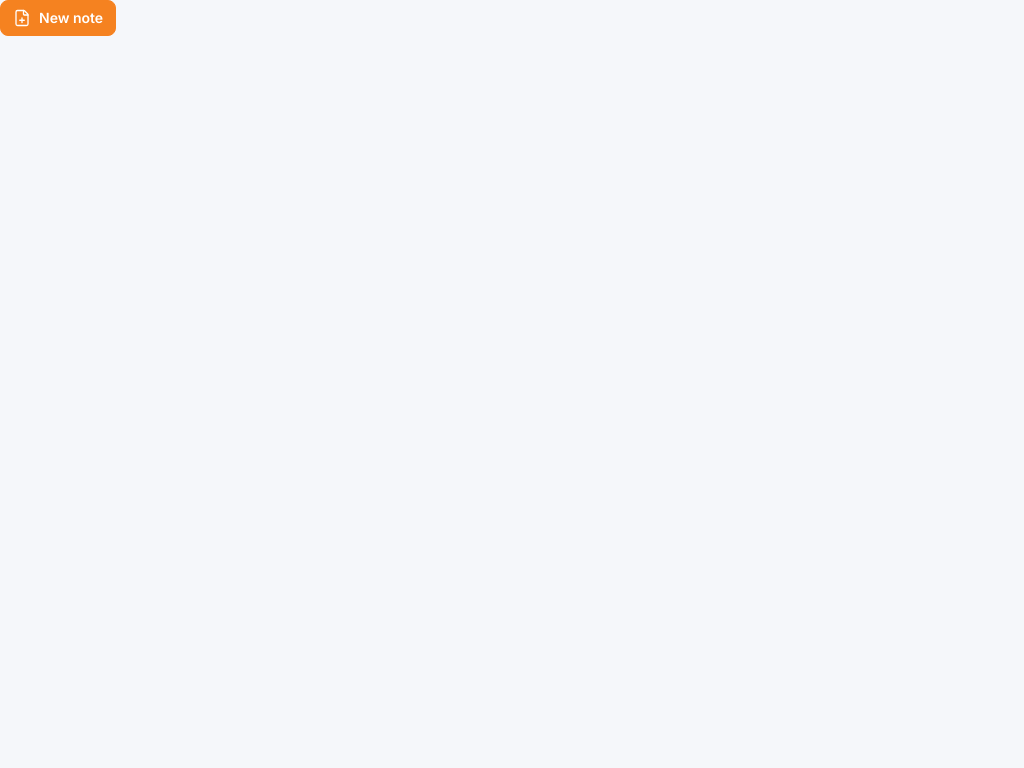
Scenario: AC-2.1 / AC-2.2 — capture › opens on 'n' from anywhere and saves with only a body
Press n
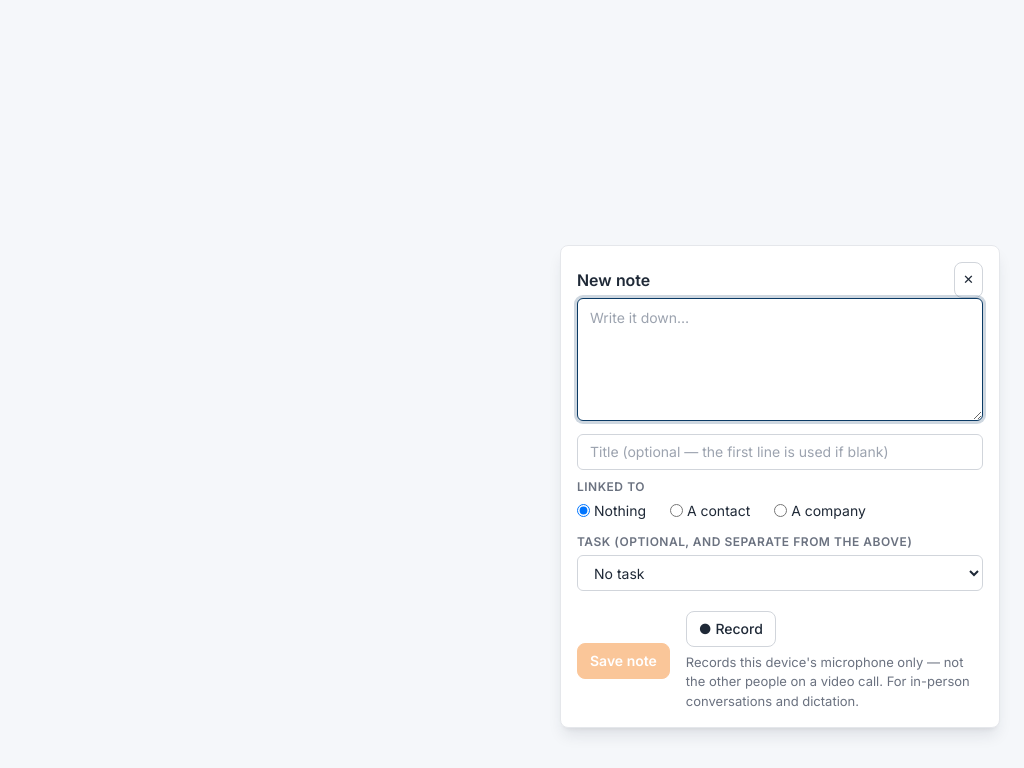
In the text box named "Note": (780, 359) [577,298,983,421], type "Lease renews in March"
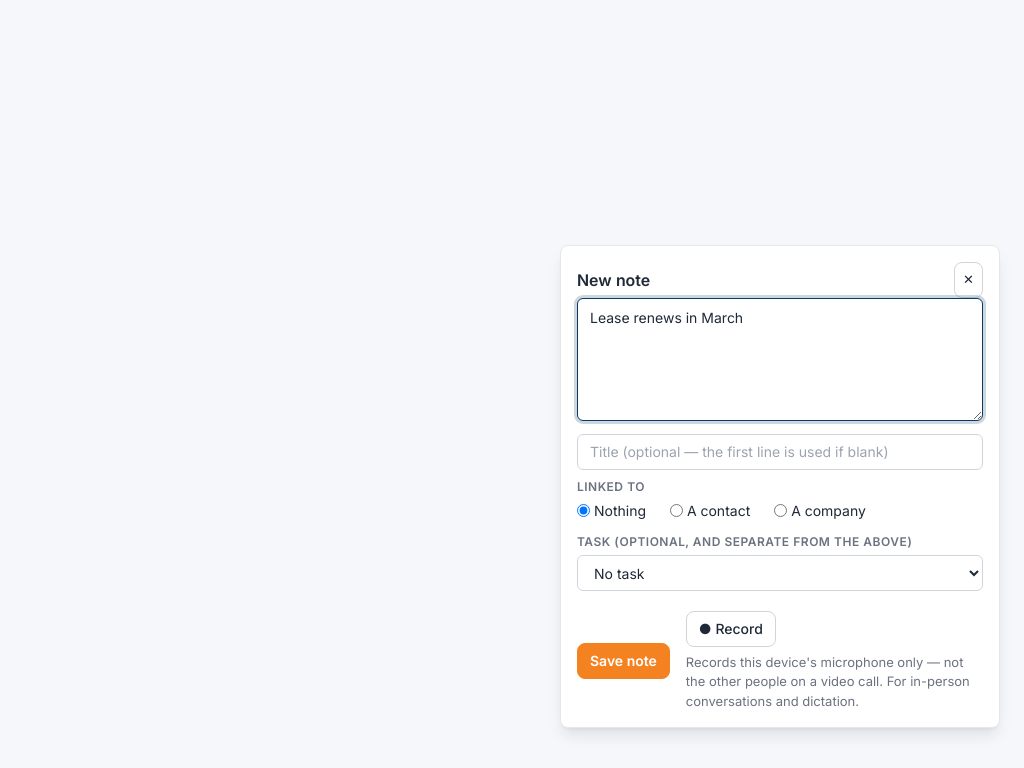
Click the button "Save note": (623, 661) [577,643,670,679]
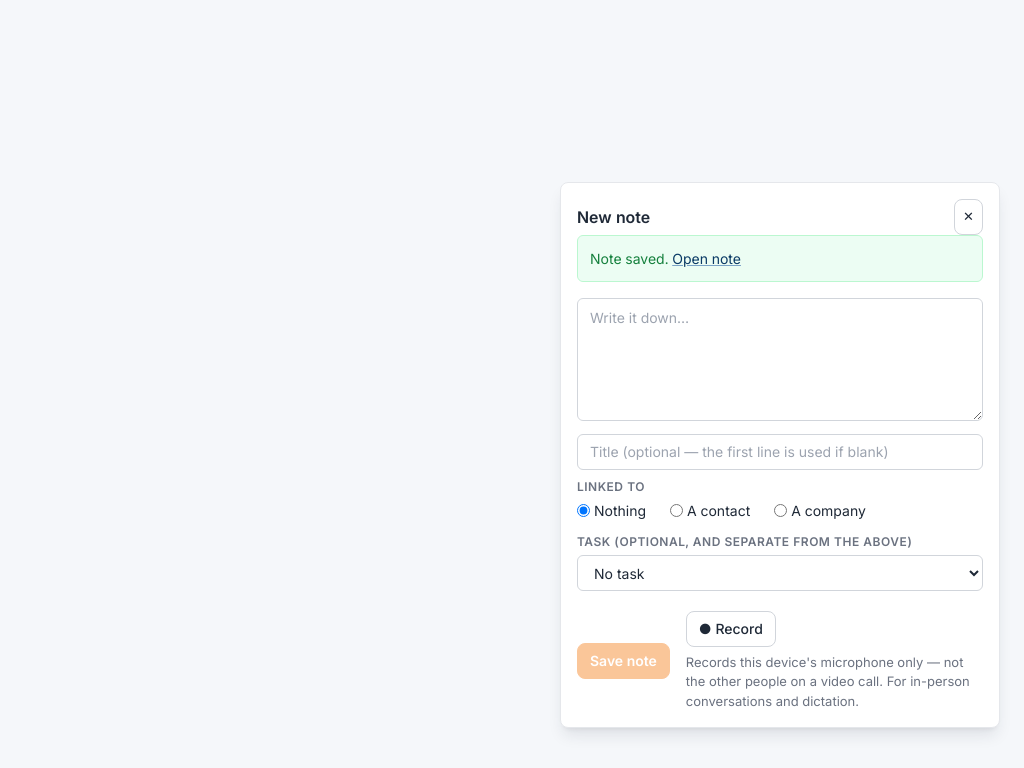
Now the text "Note saved." is shown, box [590,250,668,267]
